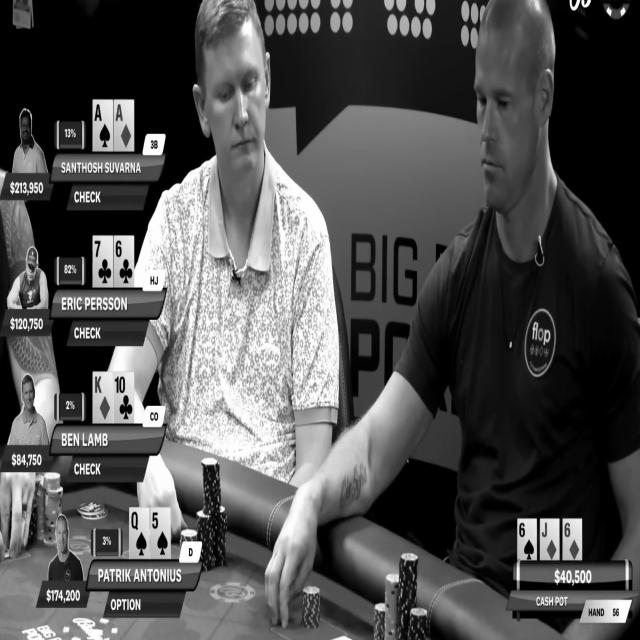5S: (152, 509, 169, 558)
6C: (115, 236, 133, 286)
6D: (564, 519, 581, 561)
6S: (518, 520, 536, 560)
7C: (94, 237, 113, 287)
AD: (115, 101, 133, 151)
AS: (93, 100, 112, 150)
JD: (541, 519, 559, 561)
KD: (94, 372, 113, 423)
QS: (130, 509, 148, 559)
